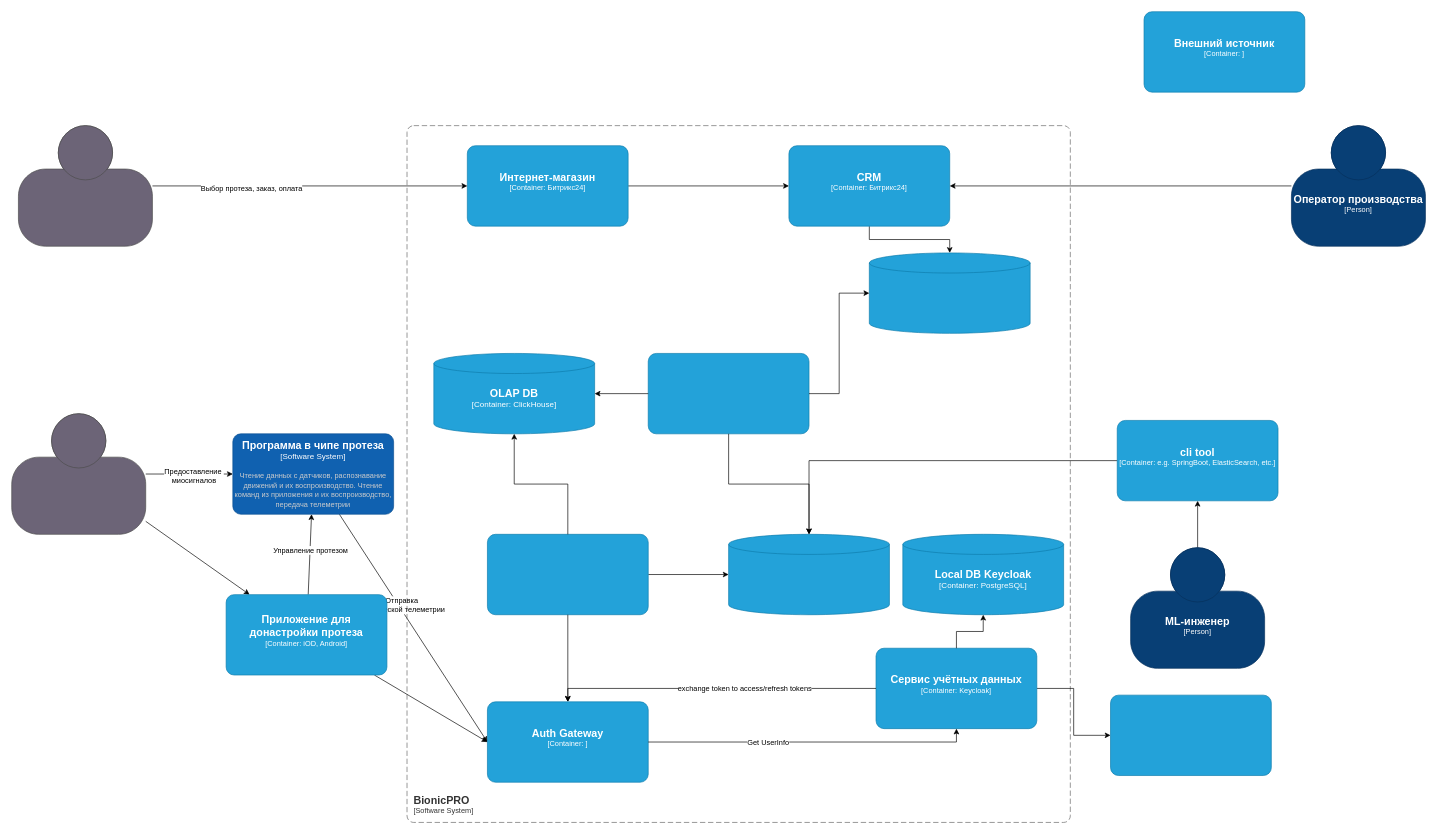
Some shapes in this 1437 by 834 pixel diagram are drawn without their labels. The box of each missing label's shape, as (x1, y1, x2, y2) in pixels:
API [Container: e.g. SpringBoot, ElasticSearch, etc.]: (487, 534, 648, 615)
CRM DB [Container: e.g. Oracle Database 12]: (869, 252, 1030, 333)
ETL [Container: AirFlow]: (648, 353, 809, 434)
База данных [Container: PostgreSQL]: (728, 534, 889, 615)
Внешний IdP (страна) [Container: ] SSO: (1110, 694, 1271, 776)
Пилот протеза [Person] С этого человека считываются данные: (11, 413, 146, 534)
Покупатель протеза [Person]: (18, 125, 152, 246)
